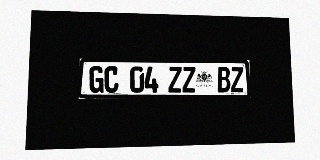0: (130, 66, 144, 93)
4: (144, 66, 158, 93)
B: (217, 67, 230, 92)
C: (104, 66, 119, 93)
G: (89, 66, 104, 93)
Z: (168, 67, 182, 92), (182, 67, 196, 92), (230, 67, 244, 92)
